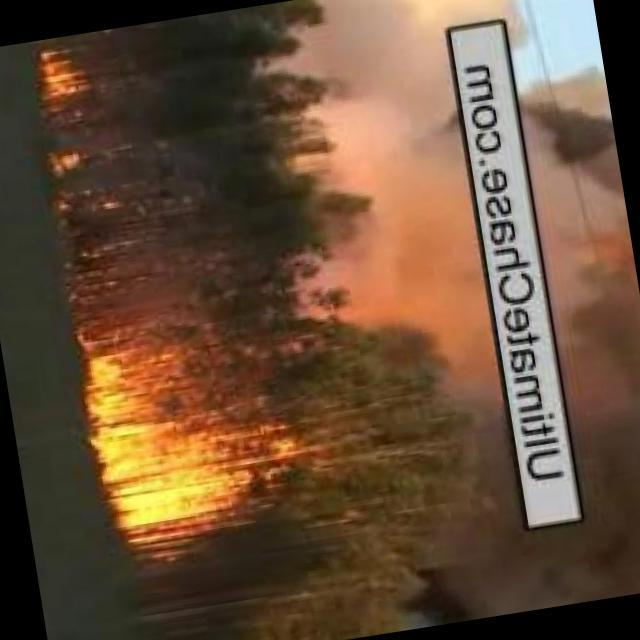Fire: (81, 320, 266, 553), (50, 147, 120, 222), (36, 42, 97, 111)
